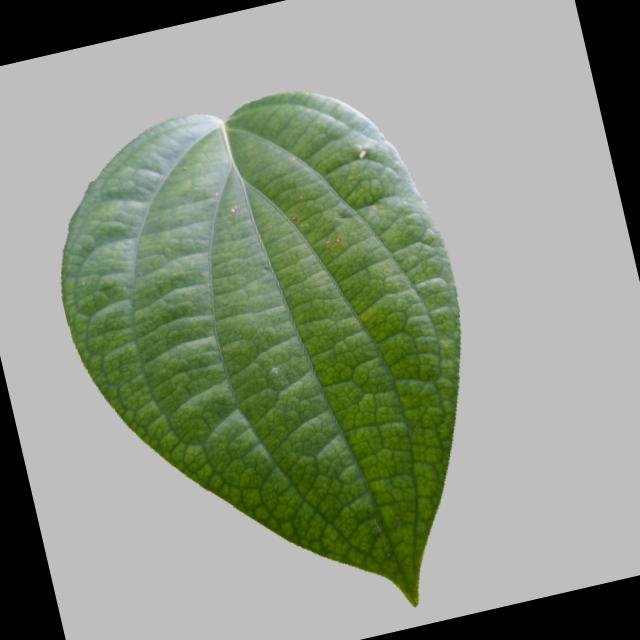healthy: (28, 65, 526, 640)
